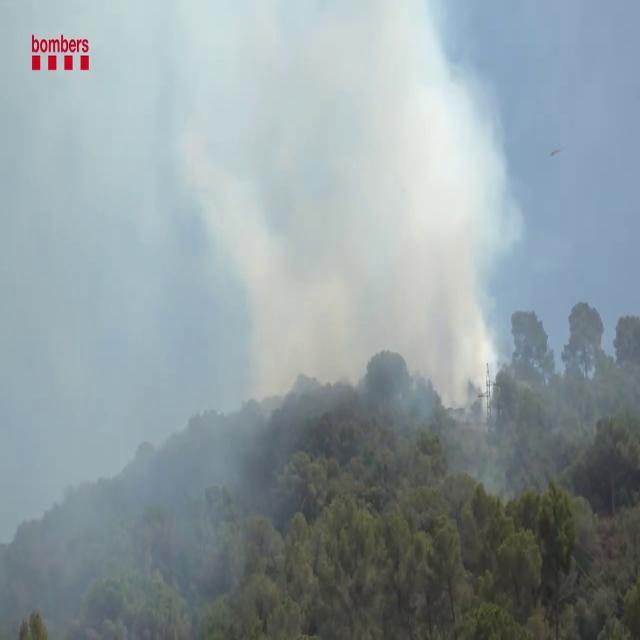Smoke: (0, 17, 296, 640), (272, 5, 528, 436)
